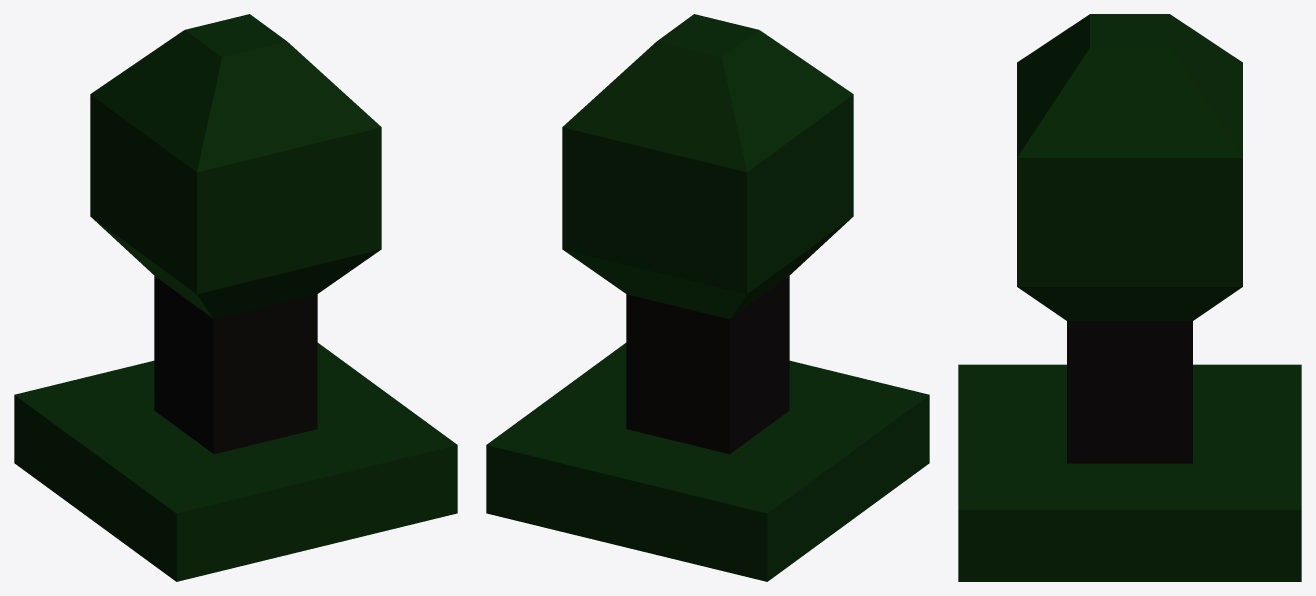
File: tree_tile.obj
3 views of the same model, side by side, from view 1: azimuth 30°, elevation 25°; view 2: azimuth 150°, elevation 25°; view 3: azimuth 270°, elevation 25° (orthographic). The views are drawn at different scales.
Parts seen in each view (by area): view 1: Cube.001; view 2: Cube.001; view 3: Cube.001.
Boxes of the visible parts, box(x1,y1,x2,y2) form: Cube.001: box(14, 14, 457, 581); Cube.001: box(486, 14, 929, 581); Cube.001: box(958, 14, 1301, 581).
Size of the model in its own units: 2 by 3.08 by 2.
